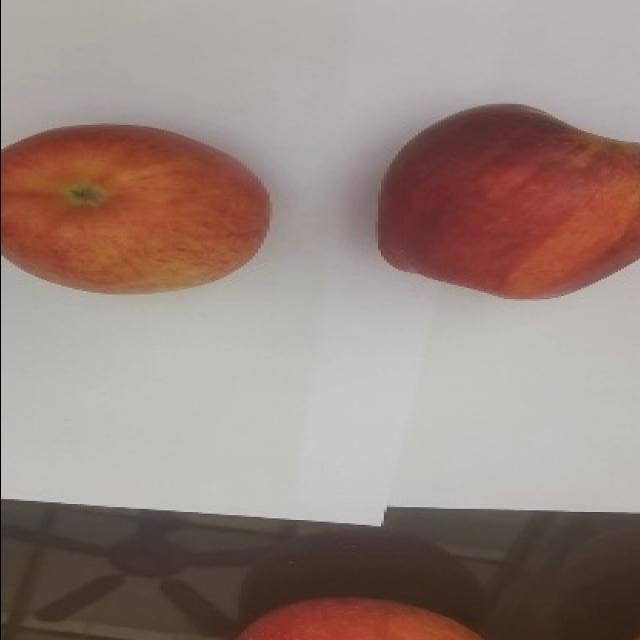Apple: (376, 103, 640, 304), (0, 127, 275, 298), (234, 593, 485, 640)
